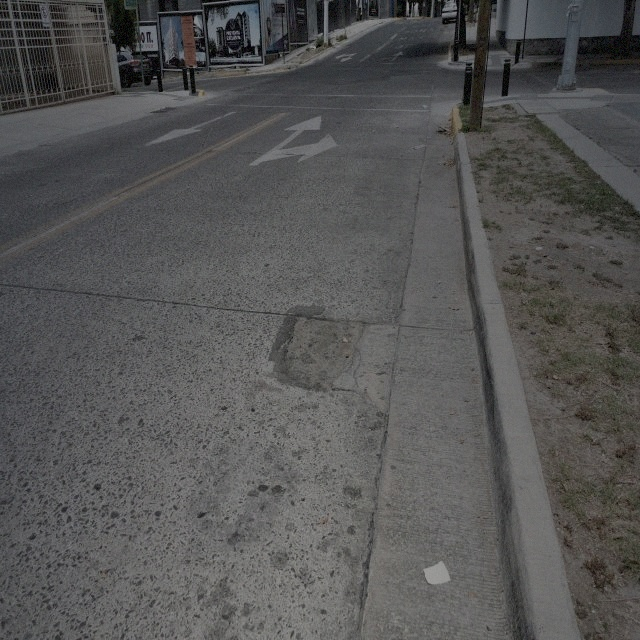pothole: (280, 310, 368, 392)
